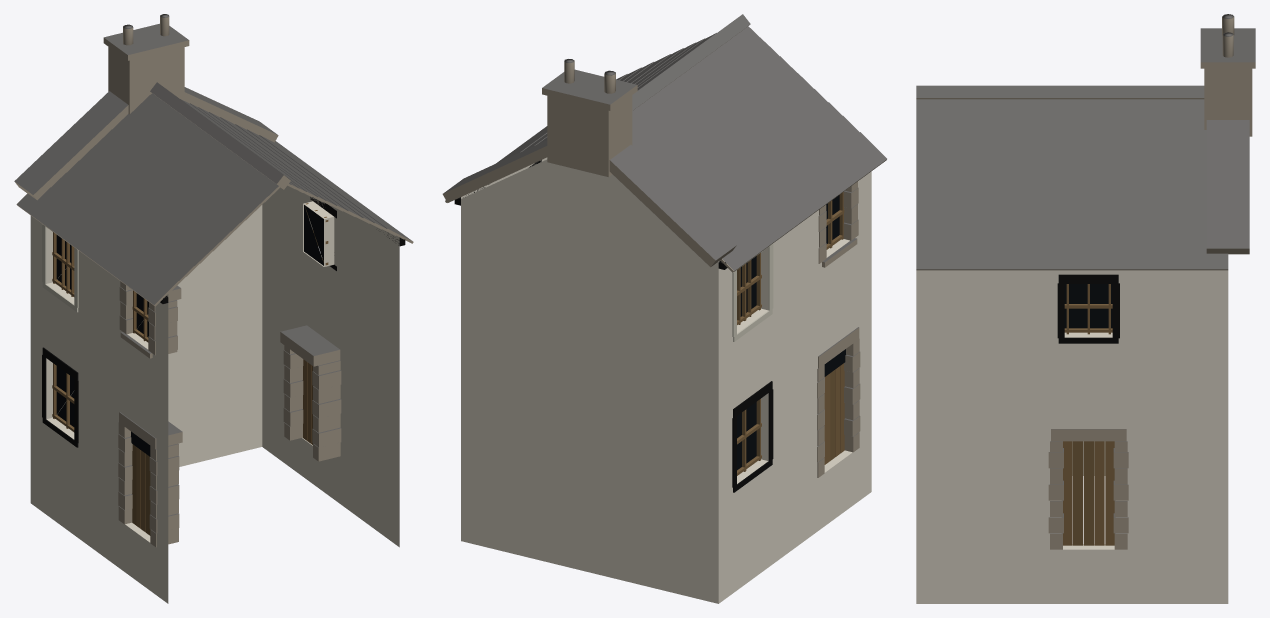
The model's file is context.dales.house_01.glb.
The picture shows the model from 3 angles, left to right: view 1: azimuth 30°, elevation 25°; view 2: azimuth 150°, elevation 25°; view 3: azimuth 270°, elevation 25°; orthographic projection. The views are drawn at different scales.
Visible parts, largest first — view 1: main__render_ddc, main__slate_666, main__stone_a98, main__paint_764, main__glass_dark, main__rubber, main__paint_753, main__paint_ccb; view 2: main__render_ddc, main__slate_666, main__stone_a98, main__paint_764, main__glass_dark, main__rubber, main__paint_ccb; view 3: main__render_ddc, main__slate_666, main__stone_a98, main__paint_764, main__paint_753, main__rubber, main__glass_dark.
Boxes of the visible parts, x1,y1,x2,y2 form: main__render_ddc: (30, 185, 399, 603); main__slate_666: (14, 14, 411, 533); main__stone_a98: (14, 15, 413, 547); main__paint_764: (52, 203, 328, 535); main__glass_dark: (56, 205, 323, 456); main__rubber: (42, 197, 405, 447); main__paint_753: (132, 365, 312, 534); main__paint_ccb: (42, 224, 78, 312); main__render_ddc: (461, 157, 871, 603); main__slate_666: (443, 14, 886, 462); main__stone_a98: (442, 26, 886, 477); main__paint_764: (737, 192, 844, 475); main__glass_dark: (737, 195, 845, 470); main__rubber: (454, 160, 773, 492); main__paint_ccb: (732, 243, 773, 341); main__render_ddc: (916, 270, 1228, 603); main__slate_666: (916, 14, 1255, 533); main__stone_a98: (916, 17, 1255, 549); main__paint_764: (1063, 284, 1114, 545); main__paint_753: (1072, 441, 1093, 545); main__rubber: (1057, 274, 1119, 343); main__glass_dark: (1064, 284, 1112, 328).
Size of the model in its own units: 5.66 by 9.48 by 5.66.
